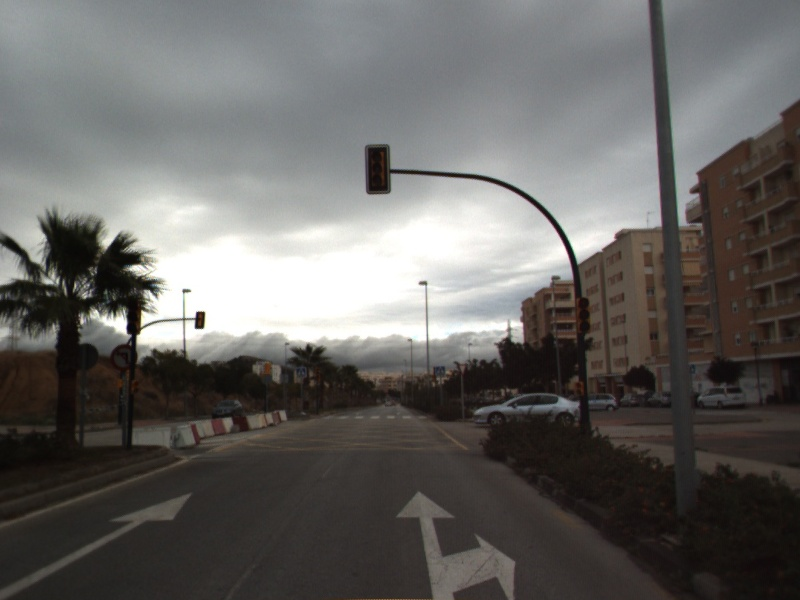STRAIGHT: (1, 490, 195, 600)
STRAIGHT_RIGHT: (394, 489, 517, 600)
